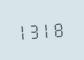eight: (54, 19, 65, 38)
one: (42, 19, 53, 39), (18, 21, 29, 40)
three: (30, 20, 41, 40)
